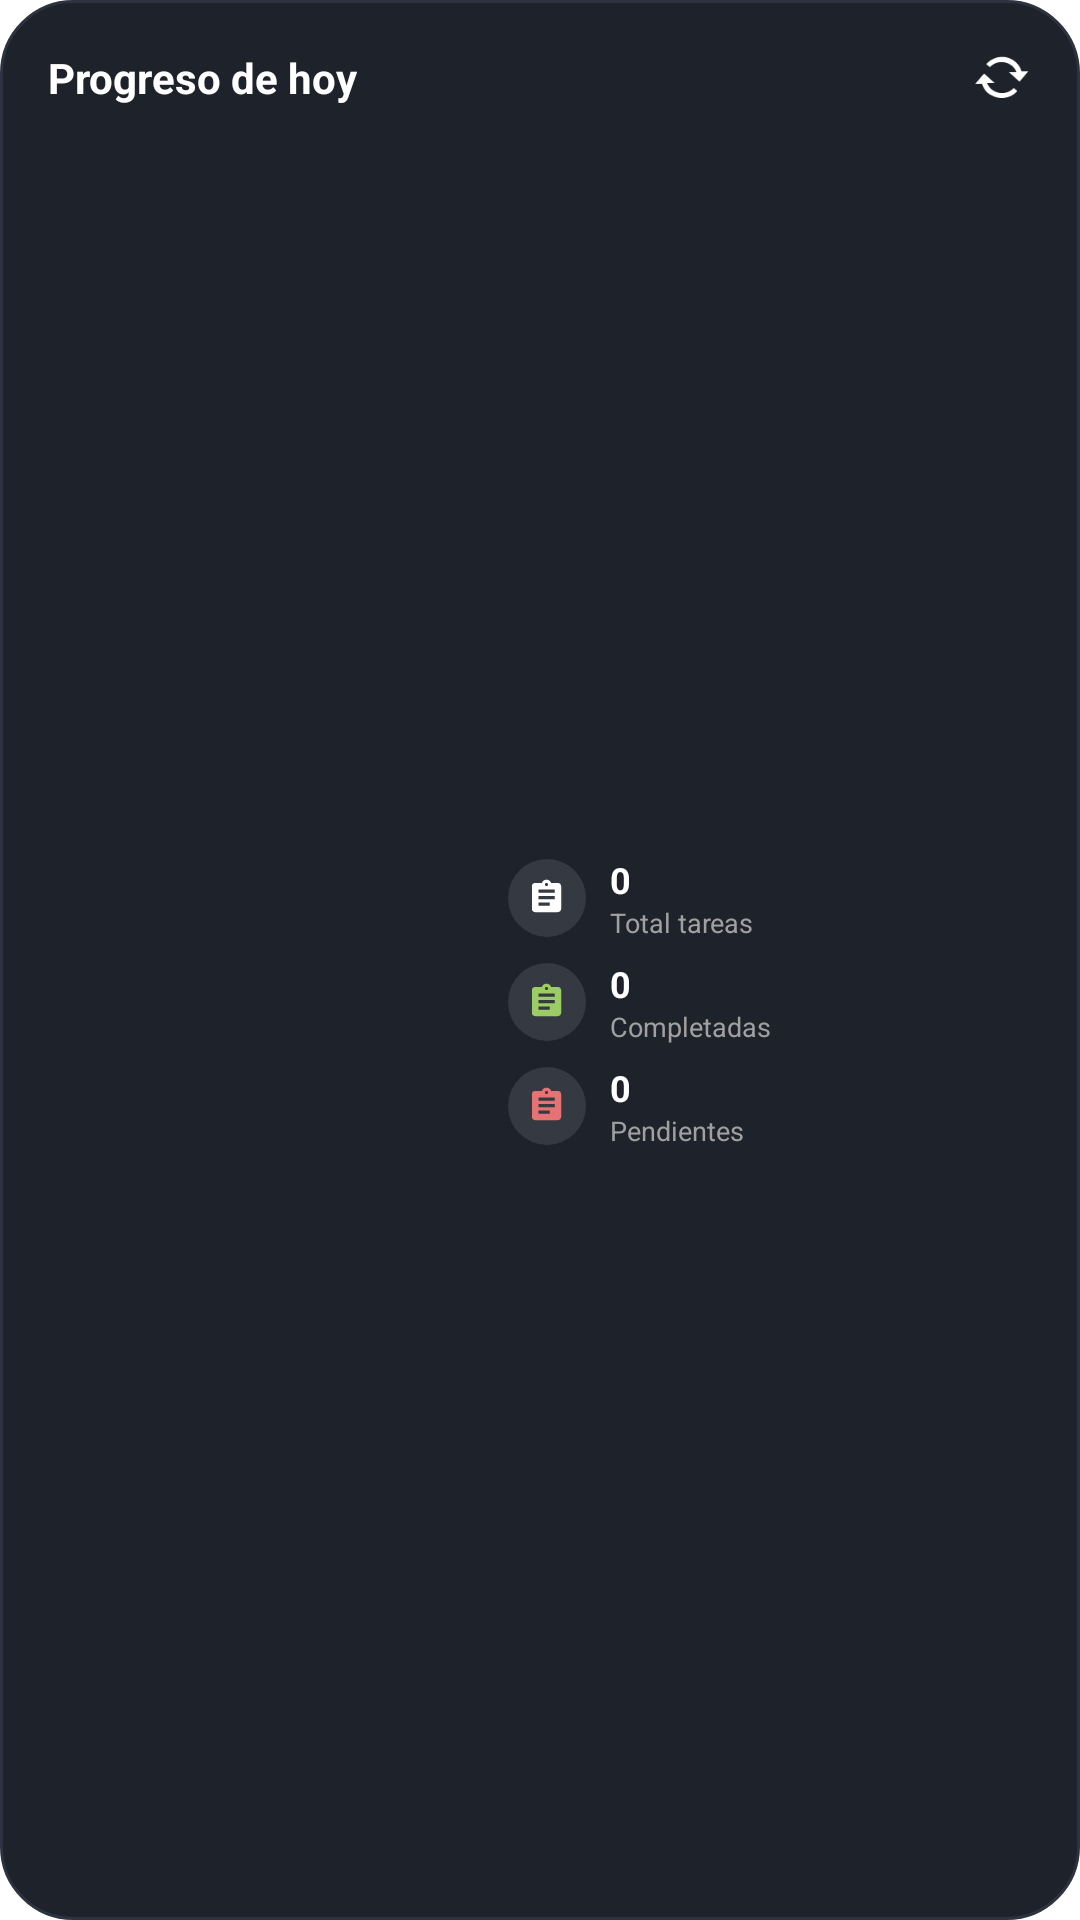

Point at icon controls on the screen. Image size 1080px x 1920px, points as (x=x, y=y).
Actualizar: (x=1001, y=77)
widget assignment: (x=547, y=896), (x=547, y=1000), (x=547, y=1104)
